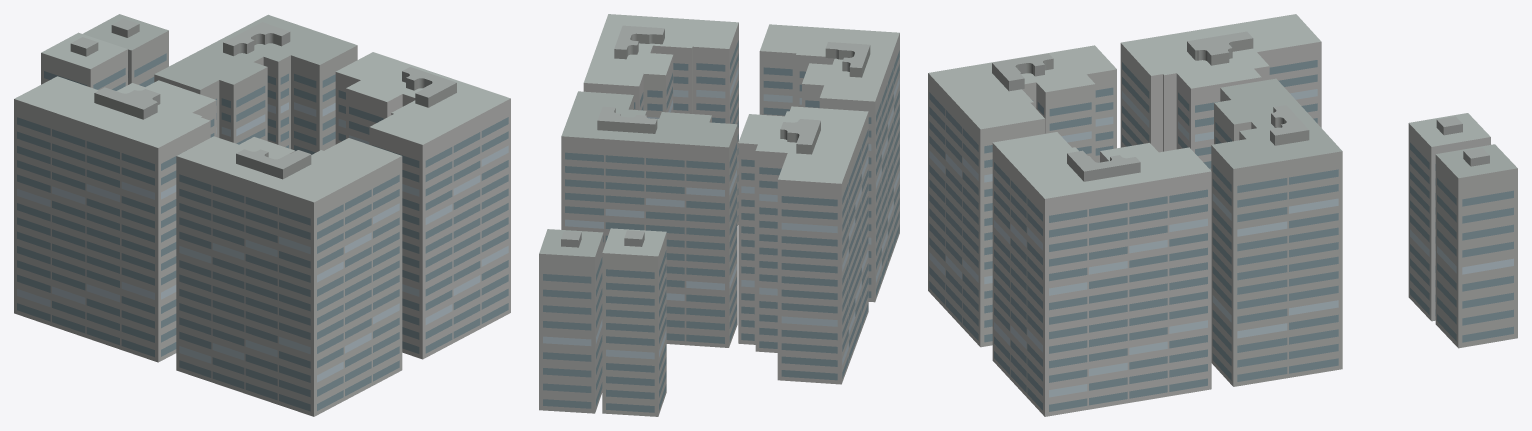
Rendered from apt-a13508010.glb.
3 renders of one model, left to right at view 1: azimuth 30°, elevation 25°; view 2: azimuth 150°, elevation 25°; view 3: azimuth 270°, elevation 25°, orthographic. The views are drawn at different scales.
Parts seen in each view (by area): view 1: apt-a13508010; view 2: apt-a13508010; view 3: apt-a13508010.
Part boxes in pixels (x1,y1,x2,y2): apt-a13508010: [14, 14, 510, 416]; apt-a13508010: [539, 14, 899, 416]; apt-a13508010: [928, 14, 1517, 416].
Bounding box in the file's own units: 86.92 × 50 × 117.
